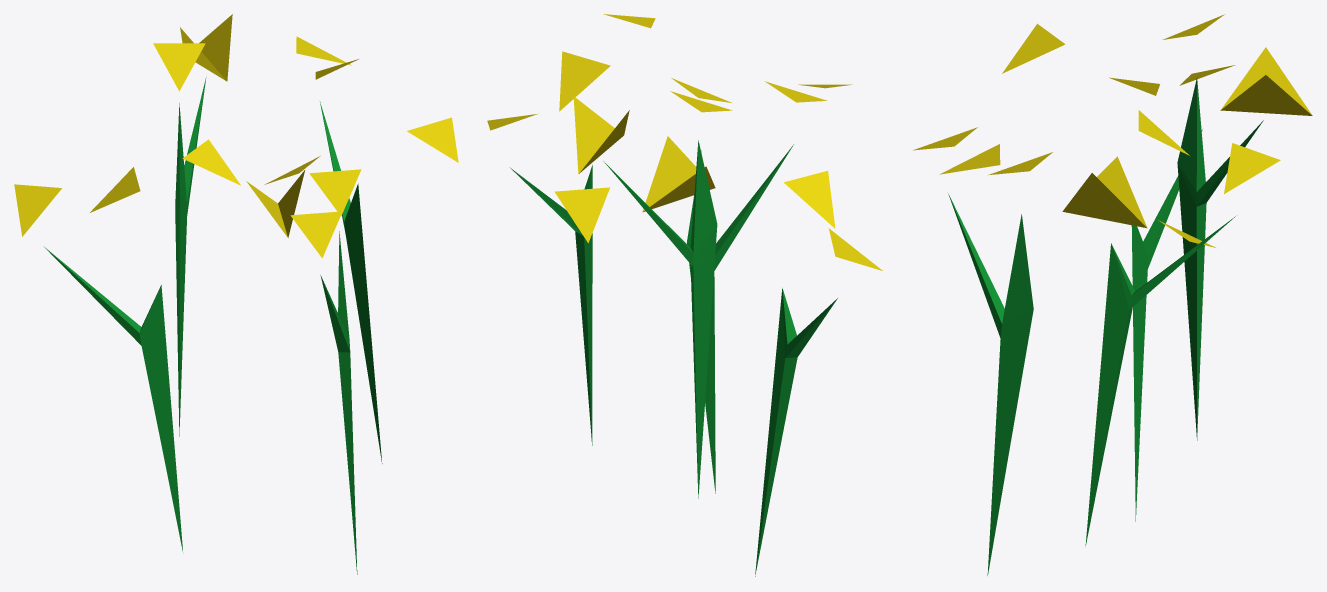
File: DesertBahia_LOD3.fbx
3 renders of one model, left to right at view 1: azimuth 30°, elevation 25°; view 2: azimuth 150°, elevation 25°; view 3: azimuth 270°, elevation 25°, orthographic. The views are drawn at different scales.
Visible parts, largest first — view 1: DesertBahia_LOD3; view 2: DesertBahia_LOD3; view 3: DesertBahia_LOD3.
Boxes of the visible parts, x1,y1,x2,y2 form: DesertBahia_LOD3: (14,14,458,574); DesertBahia_LOD3: (487,14,882,576); DesertBahia_LOD3: (913,14,1312,575).
Size of the model in its own units: 25.14 by 35.64 by 27.42.
